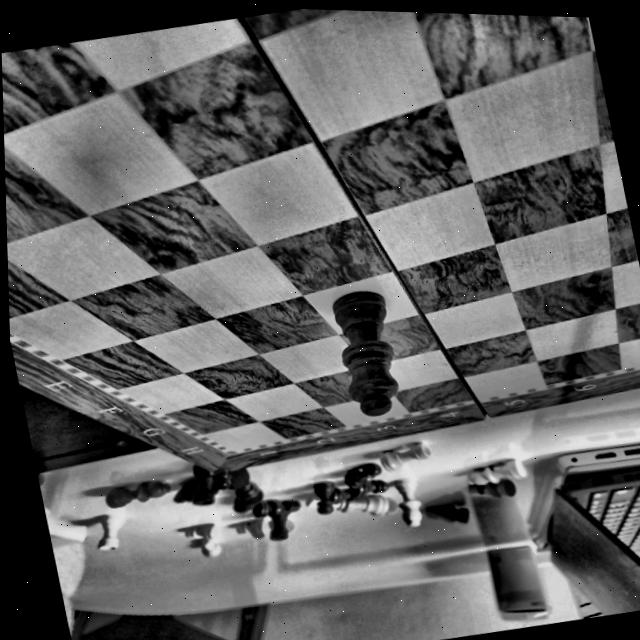black-queen: (308, 275, 418, 428)
